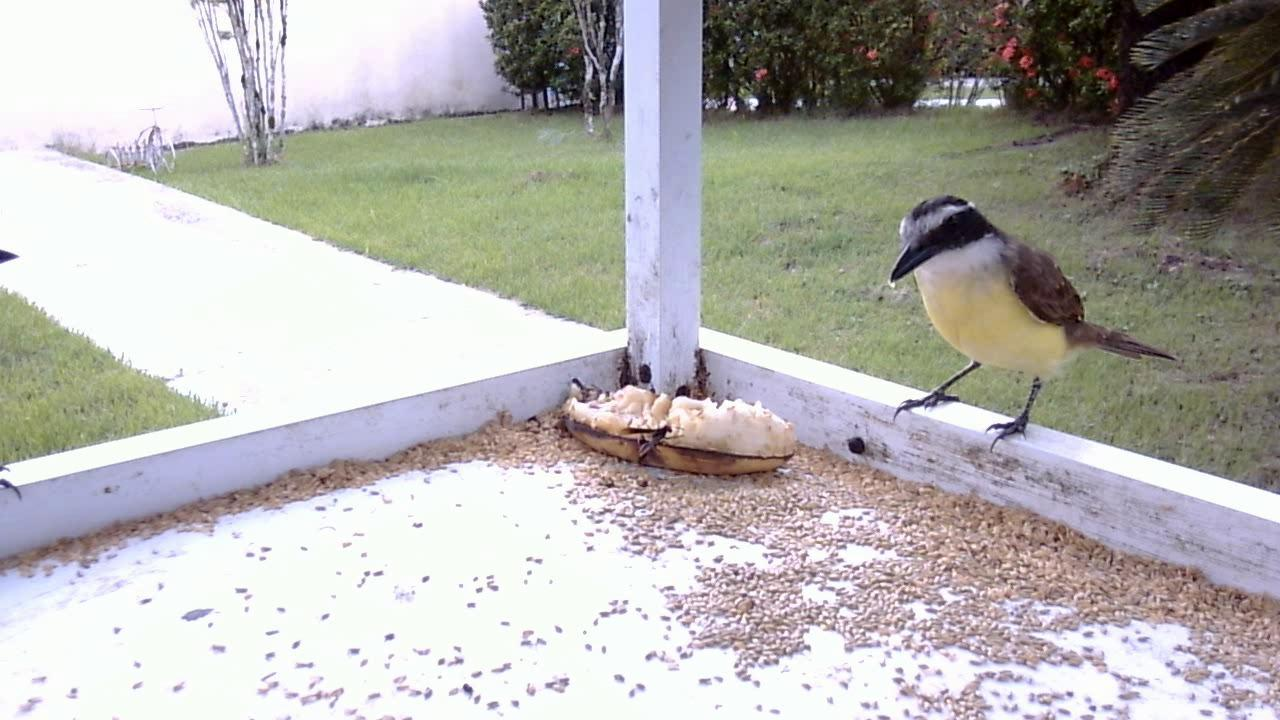bem_te_vi: (878, 181, 1183, 464)
